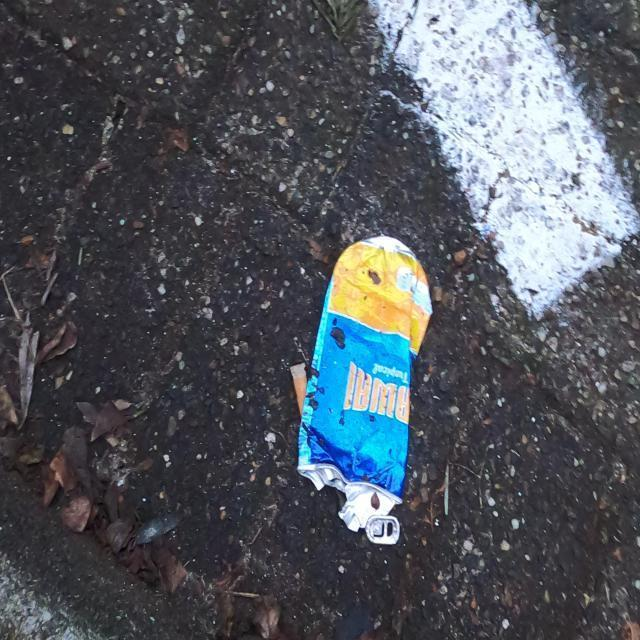Can-Metal: (290, 228, 435, 547)
